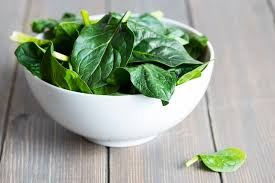spinach: (56, 23, 169, 77)
